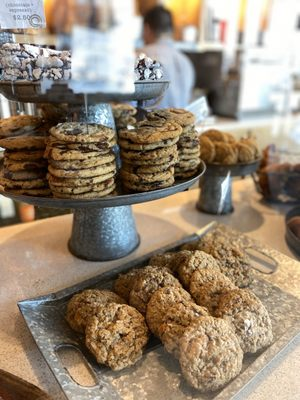pizza: (133, 1, 196, 109)
